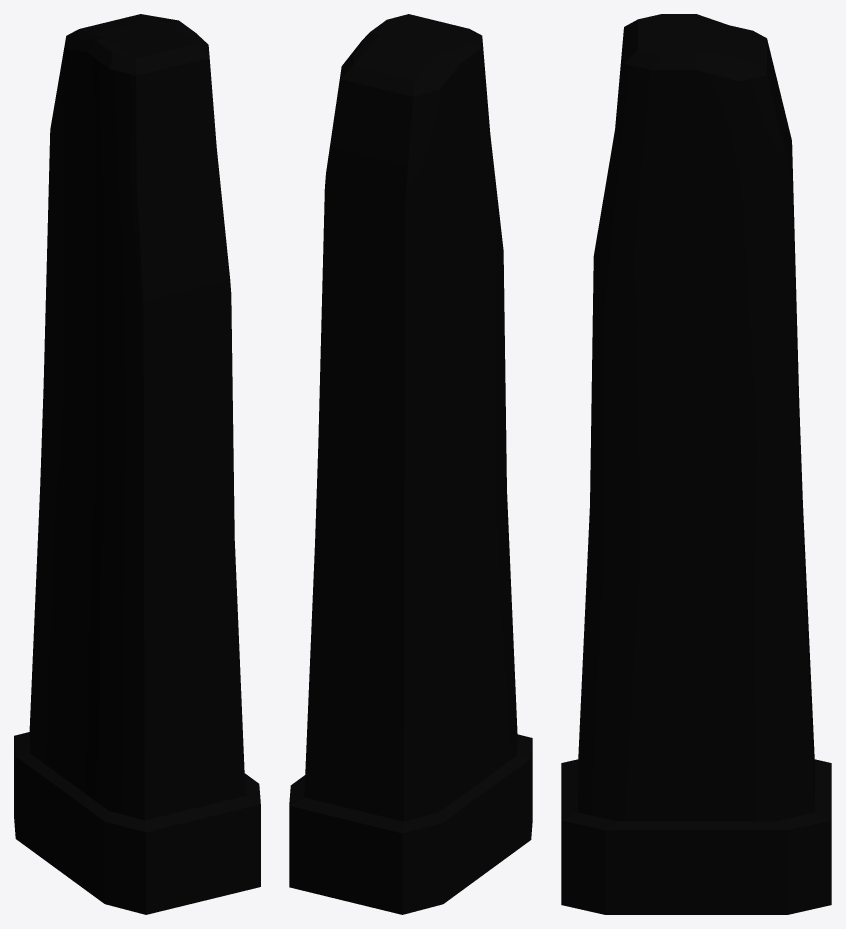
File: sciRuin01.fbx
The picture shows the model from 3 angles, left to right: view 1: azimuth 30°, elevation 25°; view 2: azimuth 150°, elevation 25°; view 3: azimuth 270°, elevation 25°; orthographic projection. The views are drawn at different scales.
Parts seen in each view (by area): view 1: sciRuin01; view 2: sciRuin01; view 3: sciRuin01.
Part boxes in pixels (x1,y1,x2,y2): sciRuin01: (14,14,260,914); sciRuin01: (289,14,532,914); sciRuin01: (561,14,831,914).
Bounding box in the file's own units: 1.34 × 6.85 × 1.98.
